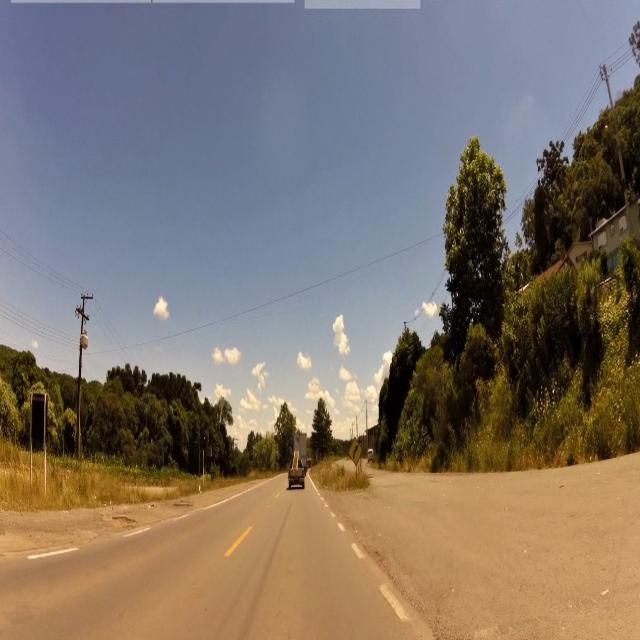A-2b: (349, 438, 363, 462)
